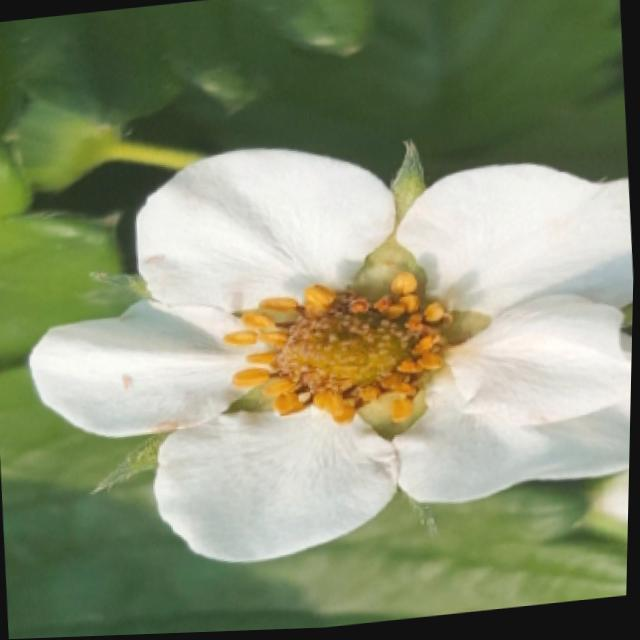Blossom Blight: (221, 267, 457, 430)
